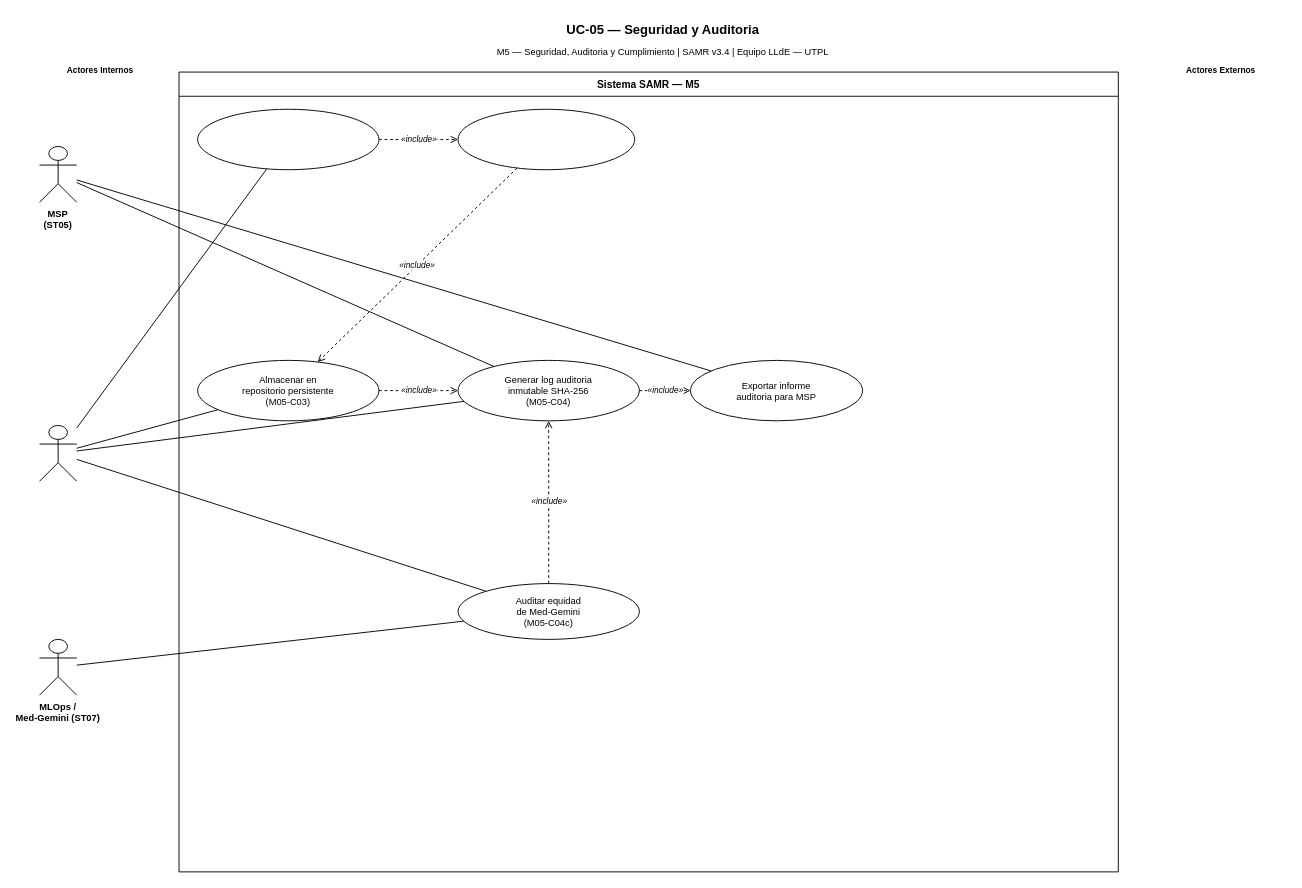
The diagram is 1302 pixels wide and 888 high, and some of its shapes have lost their labels. The shapes that lost their labels are listed below. From the top down, each one's centre as x and y in pixels, then its label:
At point (288, 139): "Registrar consentimiento explicito LOPDP (M05-C02)".
At point (546, 139): "Cifrar datos en reposo y transito (M05-C01)".
At point (58, 453): "DPO (ST06)".
